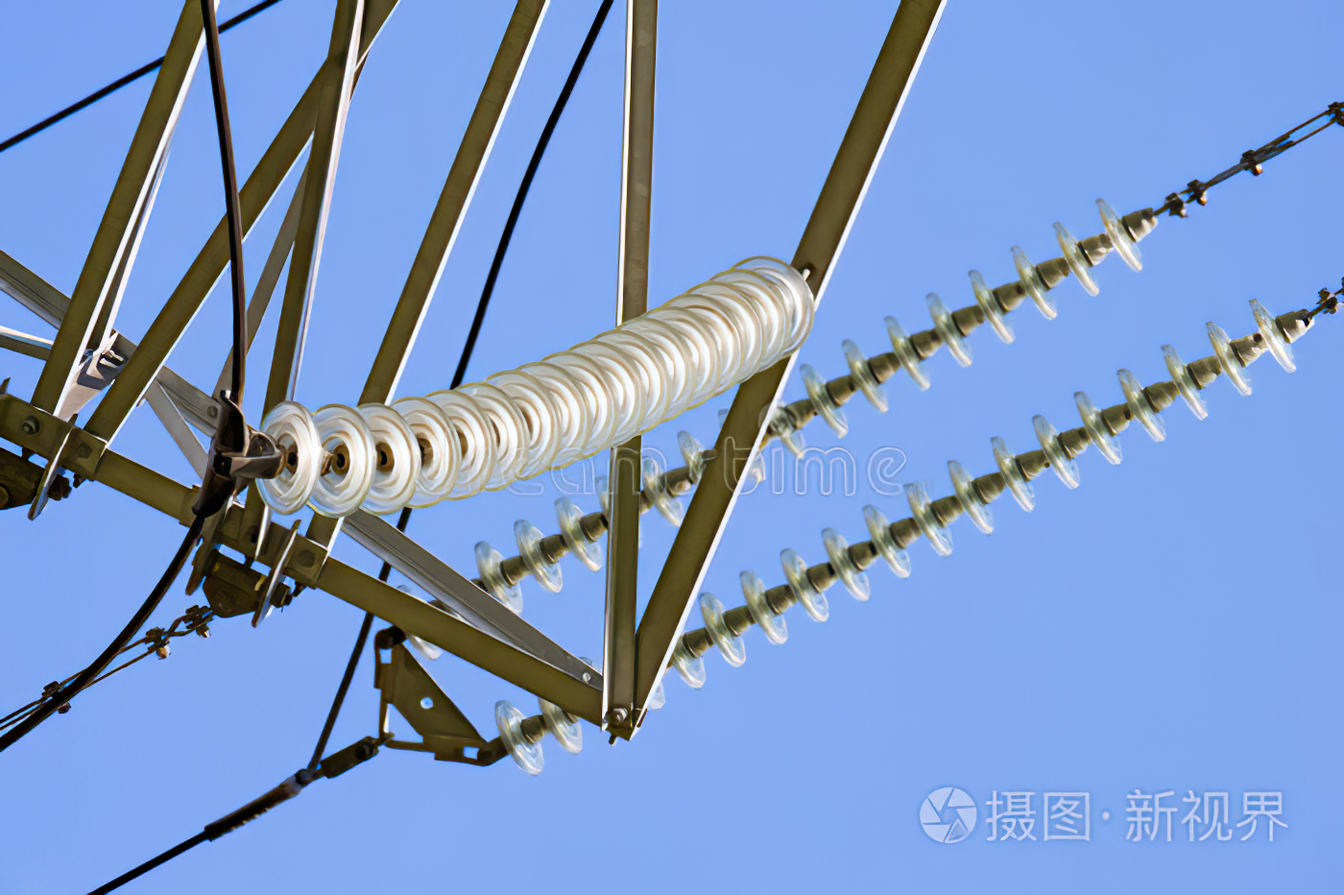insulator: (495, 295, 1303, 776), (390, 200, 1149, 656), (262, 257, 813, 512)
